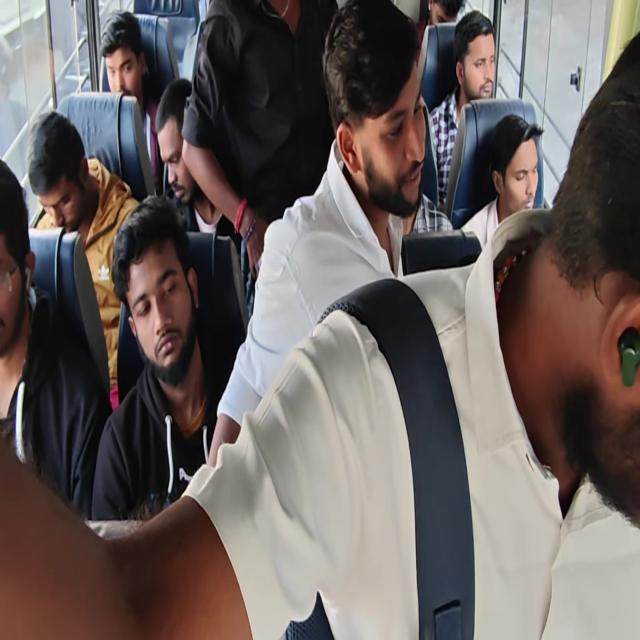person: (1, 26, 638, 638), (206, 0, 445, 472), (179, 0, 337, 319), (90, 193, 224, 523), (0, 158, 112, 520), (27, 110, 142, 410), (154, 76, 250, 318), (428, 10, 496, 212), (100, 9, 164, 196), (459, 112, 542, 252), (154, 77, 224, 235), (414, 0, 465, 66)
